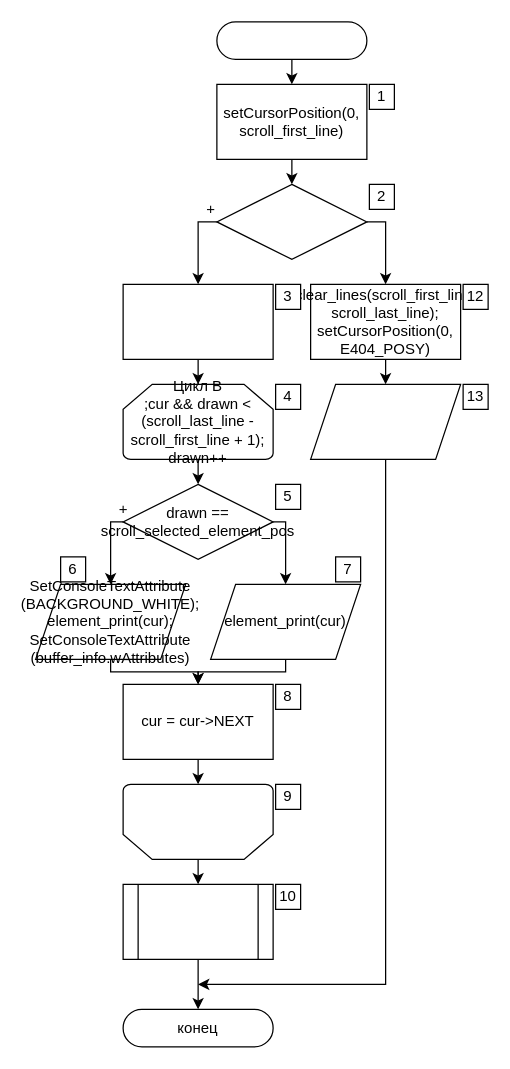
The diagram is 510 pixels wide and 1069 high, and some of its shapes have lost their labels. The shapes that lost their labels are listed below. From the top down, each one's centre as x and y in pixels, then its label:
[291,40]: начало redraw_scroll()
[291,221]: HEAD
[197,321]: ListElement * cur = scroll_first_element_on_screen; unsigned int drawn = 0
[385,421]: puts(" Nothing to show")
[197,821]: Цикл B
[197,921]: clear_lines (scroll_first_line + drawn, scroll_last_line);
